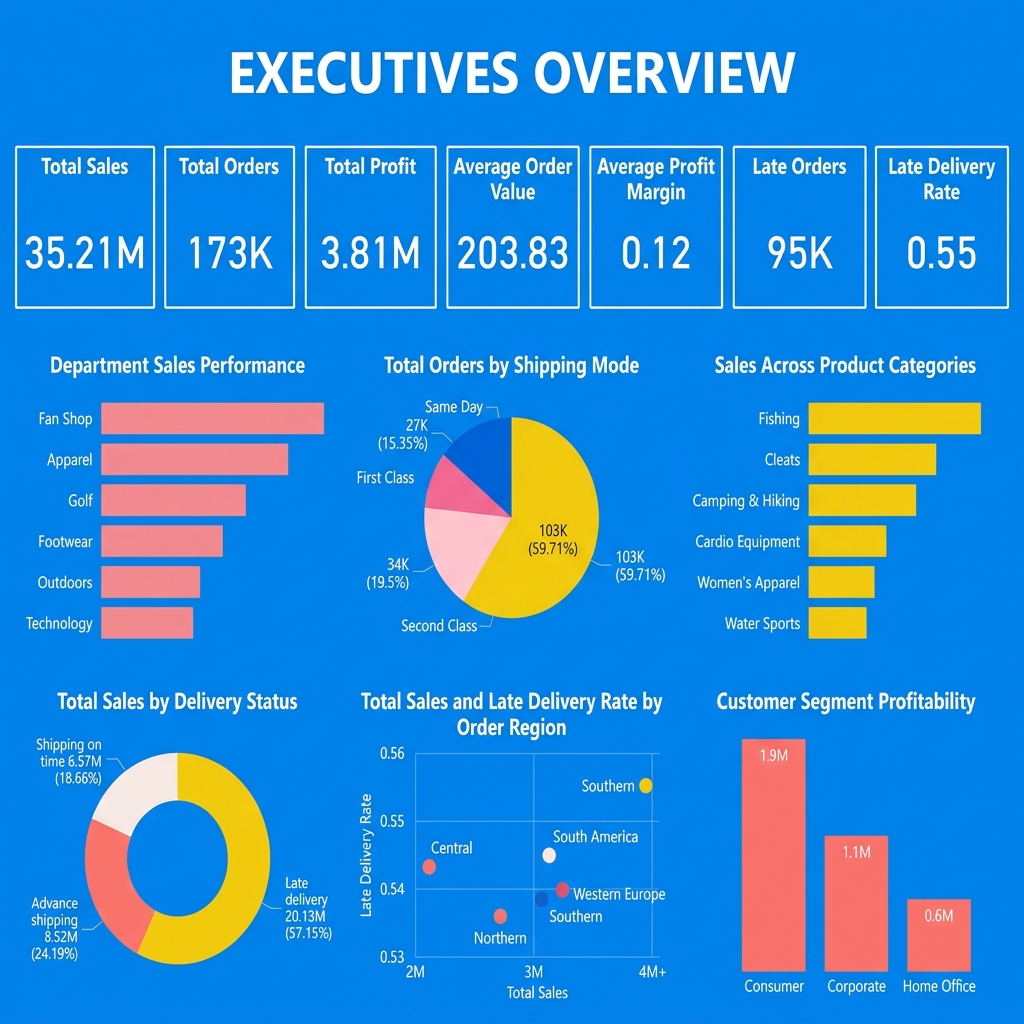

The dashboard page shown, as its layout file describes it:
{"tool":"powerbi","page":{"name":"Executives","canvas":[1280,720],"ordinal":0},"visuals":[{"type":"cardVisual","title":"Total Orders","fields":{"Data":["CleanedSupplyChainDataset.Total Orders"]},"box":[188,64.5,174.3,91.9],"z":0},{"type":"cardVisual","title":"Total Profit","fields":{"Data":["CleanedSupplyChainDataset.Total Profit"]},"box":[371.9,65.9,172.9,91.9],"z":1000},{"type":"cardVisual","title":"Total Sales","fields":{"Data":["CleanedSupplyChainDataset.Total Sales"]},"box":[12.3,64.5,166,91.9],"z":2000},{"type":"cardVisual","title":"Average Order Value","fields":{"Data":["CleanedSupplyChainDataset.Average Order Value"]},"box":[554.4,65.9,179.8,91.9],"z":3000},{"type":"cardVisual","title":"Average Profit Margin","fields":{"Data":["CleanedSupplyChainDataset.Average Profit Margin"]},"box":[743.7,67.2,175.6,91.9],"z":4000},{"type":"cardVisual","title":"Late Orders","fields":{"Data":["CleanedSupplyChainDataset.Late Orders"]},"box":[929,67.2,160.5,91.9],"z":5000},{"type":"cardVisual","title":"Late Delivery Rate","fields":{"Data":["CleanedSupplyChainDataset.Late Delivery Rate"]},"box":[1099.1,67.2,166,91.9],"z":6000},{"type":"barChart","title":"Department Sales Performance","fields":{"Category":["CleanedSupplyChainDataset.Department Name"],"Y":["CleanedSupplyChainDataset.Total Sales"]},"box":[12.3,170.2,406.2,248.4],"z":7000,"group":"g1"},{"type":"donutChart","fields":{"Category":["CleanedSupplyChainDataset.Delivery Status"],"Y":["CleanedSupplyChainDataset.Total Sales"]},"box":[12.3,432.2,437.7,273.1],"z":7000},{"type":"barChart","title":"Sales Across Product Categories","fields":{"Category":["CleanedSupplyChainDataset.Category Name"],"Y":["CleanedSupplyChainDataset.Total Sales"]},"box":[827.4,170.2,437.7,248.4],"z":8000,"group":"g1"},{"type":"columnChart","title":"Customer Segment Profitability","fields":{"Category":["CleanedSupplyChainDataset.Customer Segment"],"Y":["CleanedSupplyChainDataset.Total Profit"]},"box":[964.7,432.2,300.5,273.1],"z":8000},{"type":"pieChart","fields":{"Category":["CleanedSupplyChainDataset.Shipping Mode"],"Y":["CleanedSupplyChainDataset.Total Orders"]},"box":[439.1,170.2,371.9,248.4],"z":9000,"group":"g1"},{"type":"scatterChart","fields":{"X":["CleanedSupplyChainDataset.Total Sales"],"Y":["CleanedSupplyChainDataset.Late Delivery Rate"],"Series":["CleanedSupplyChainDataset.Order Region"]},"box":[458.3,432.2,496.7,273.1],"z":9000},{"type":"textbox","box":[201.7,0,871.4,76.8],"z":10000},{"type":"group","id":"g1","title":"Group 1","box":[12.3,170.2,1252.8,248.4],"z":11000}]}

Visuals, with their boxes on the page's 1280x720 design canvas (x1, y1, x2, y2). These are canvas units, not pixel positions in the 1024x1024 screenshot, which may show the page scaled, cropped or inside an application window:
"Total Orders" cardVisual: left=188, top=64, right=362, bottom=156
"Total Profit" cardVisual: left=372, top=66, right=545, bottom=158
"Total Sales" cardVisual: left=12, top=64, right=178, bottom=156
"Average Order Value" cardVisual: left=554, top=66, right=734, bottom=158
"Average Profit Margin" cardVisual: left=744, top=67, right=919, bottom=159
"Late Orders" cardVisual: left=929, top=67, right=1090, bottom=159
"Late Delivery Rate" cardVisual: left=1099, top=67, right=1265, bottom=159
"Department Sales Performance" barChart: left=12, top=170, right=418, bottom=419
donutChart - CleanedSupplyChainDataset.Delivery Status x CleanedSupplyChainDataset.Total Sales: left=12, top=432, right=450, bottom=705
"Sales Across Product Categories" barChart: left=827, top=170, right=1265, bottom=419
"Customer Segment Profitability" columnChart: left=965, top=432, right=1265, bottom=705
pieChart - CleanedSupplyChainDataset.Shipping Mode x CleanedSupplyChainDataset.Total Orders: left=439, top=170, right=811, bottom=419
scatterChart - CleanedSupplyChainDataset.Total Sales x CleanedSupplyChainDataset.Late Delivery Rate: left=458, top=432, right=955, bottom=705
textbox: left=202, top=0, right=1073, bottom=77
"Group 1" group: left=12, top=170, right=1265, bottom=419
